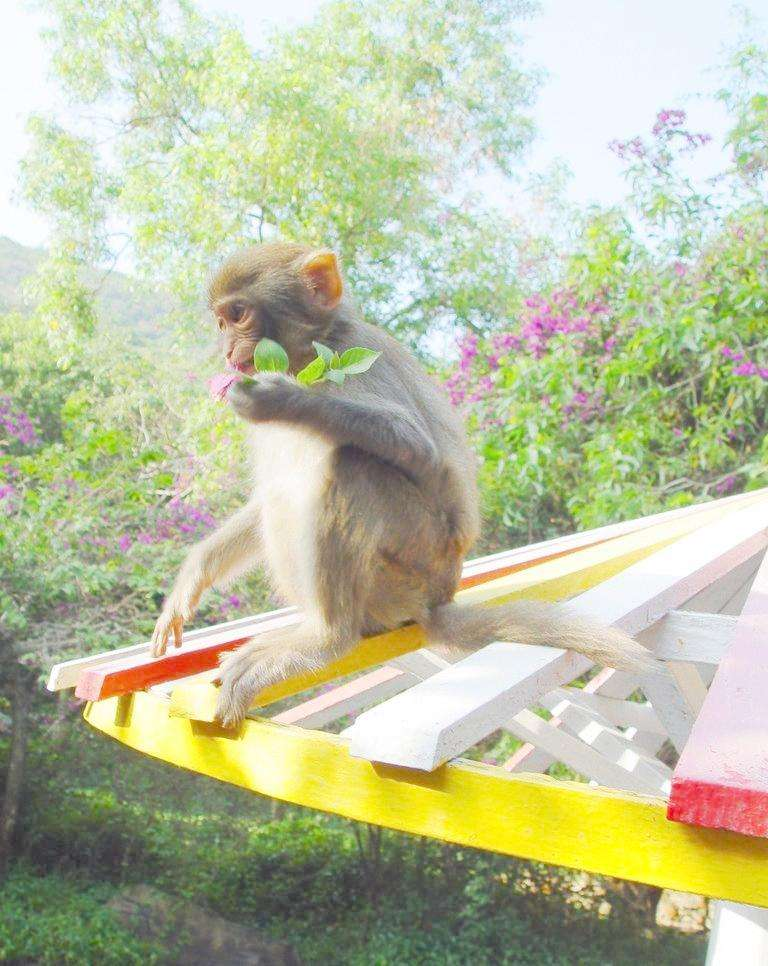monkey: (187, 244, 479, 665)
